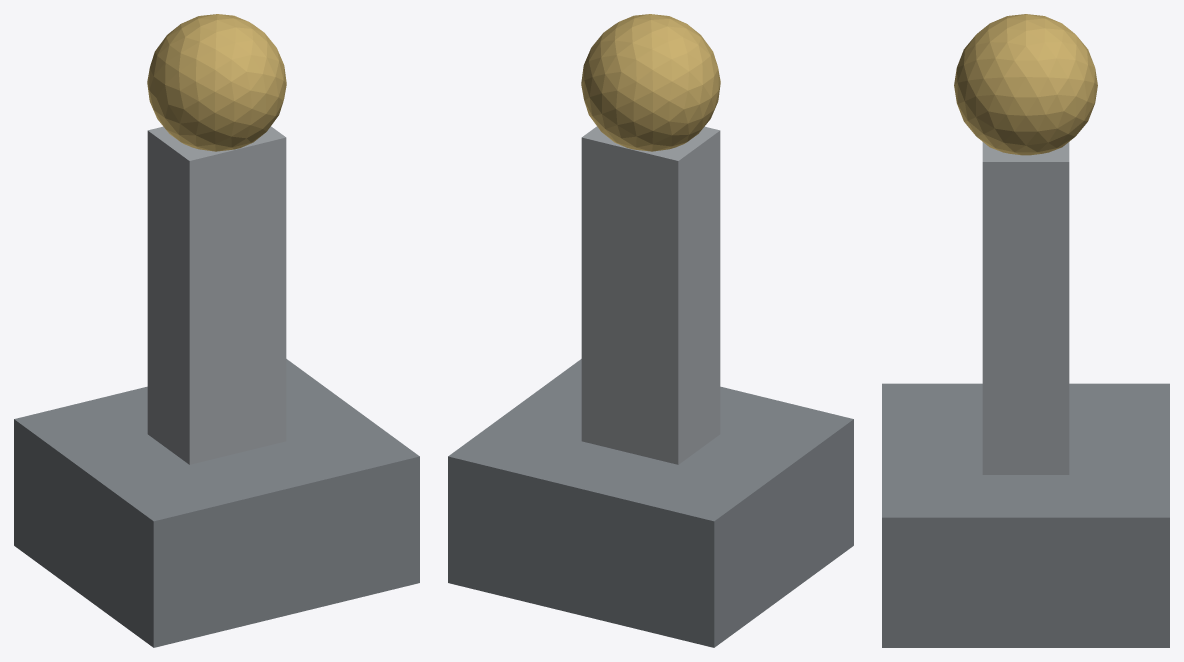
The model's file is metaverse-fiber-front-sight.gltf.
3 views of the same model, side by side, from view 1: azimuth 30°, elevation 25°; view 2: azimuth 150°, elevation 25°; view 3: azimuth 270°, elevation 25° (orthographic). The views are drawn at different scales.
Visible parts, largest first — view 1: metaverse_fiber_front_sight_base, metaverse_fiber_front_sight_post, metaverse_fiber_front_sight_bead; view 2: metaverse_fiber_front_sight_base, metaverse_fiber_front_sight_post, metaverse_fiber_front_sight_bead; view 3: metaverse_fiber_front_sight_base, metaverse_fiber_front_sight_post, metaverse_fiber_front_sight_bead.
Boxes of the visible parts, <box> form: metaverse_fiber_front_sight_base: <box>14,359,419,647</box>; metaverse_fiber_front_sight_post: <box>147,126,286,464</box>; metaverse_fiber_front_sight_bead: <box>147,14,286,151</box>; metaverse_fiber_front_sight_base: <box>448,359,853,647</box>; metaverse_fiber_front_sight_post: <box>581,126,720,464</box>; metaverse_fiber_front_sight_bead: <box>581,14,720,151</box>; metaverse_fiber_front_sight_base: <box>882,383,1169,647</box>; metaverse_fiber_front_sight_post: <box>982,142,1069,474</box>; metaverse_fiber_front_sight_bead: <box>954,14,1097,155</box>.
Bounding box in the file's own units: 0.022 × 0.043 × 0.02.
